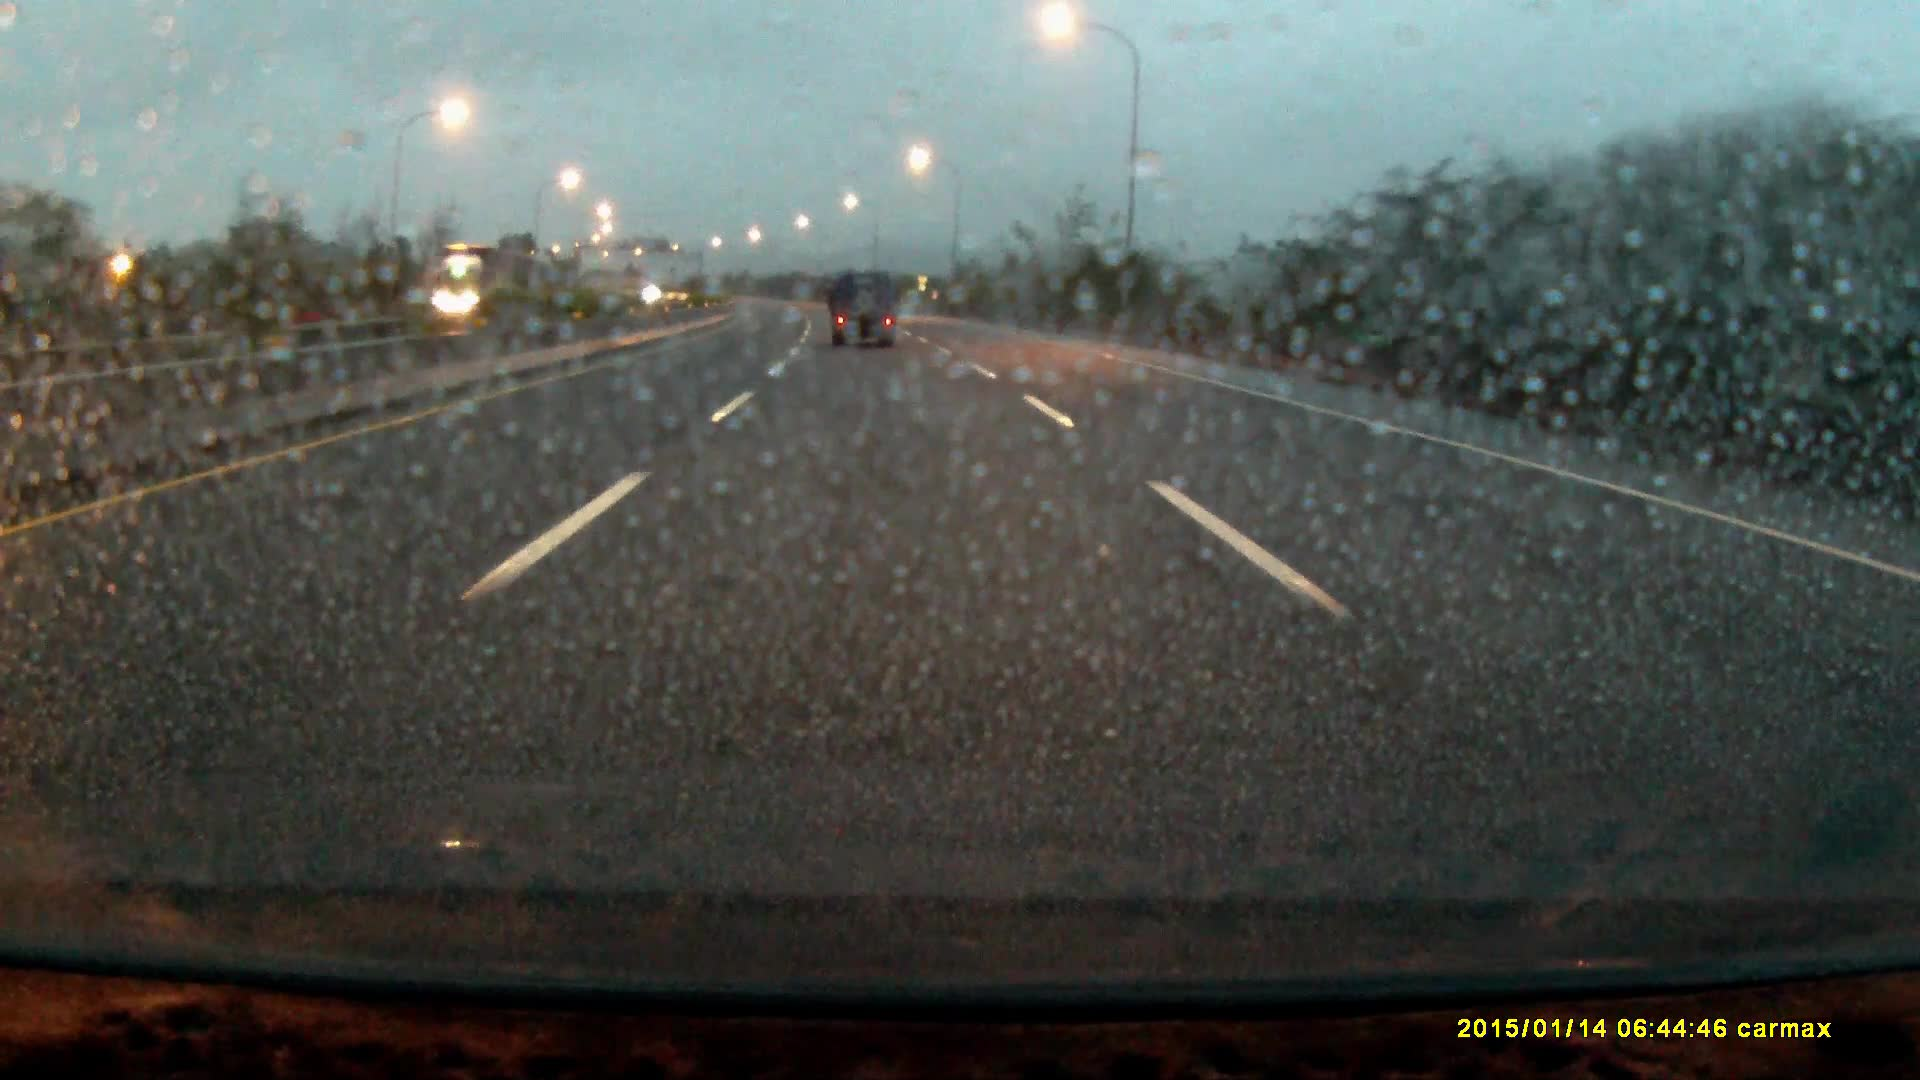vehicle: (419, 243, 534, 334), (831, 272, 902, 349)
